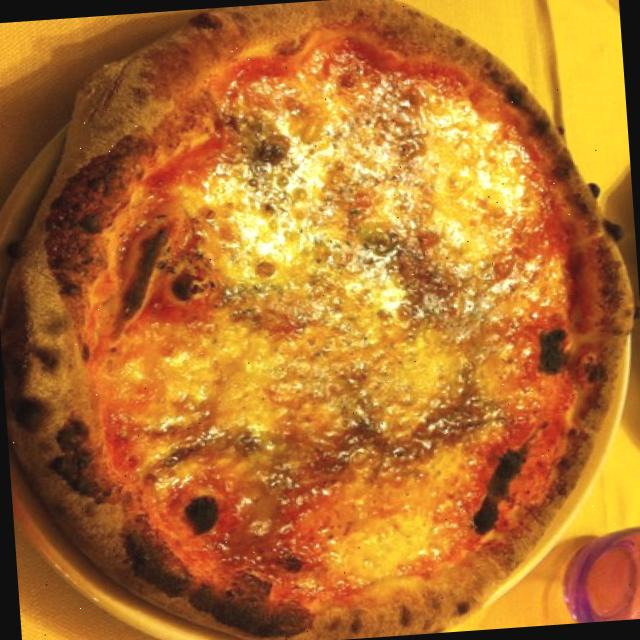pizza: (4, 0, 632, 640)
